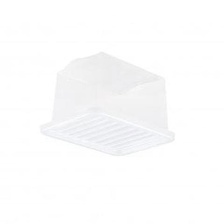plastic_box: (30, 48, 182, 166)
